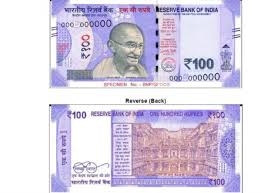hundred: (58, 13, 228, 75)
